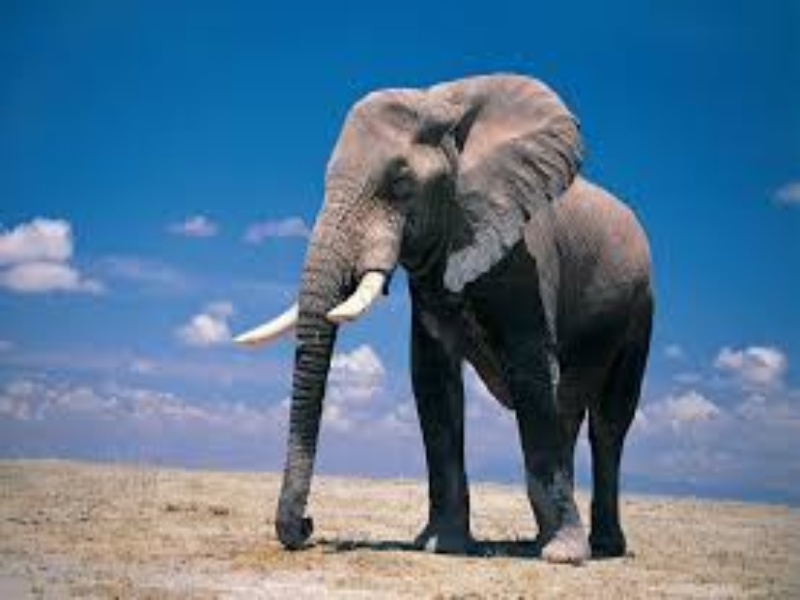elephant: (217, 66, 674, 573)
